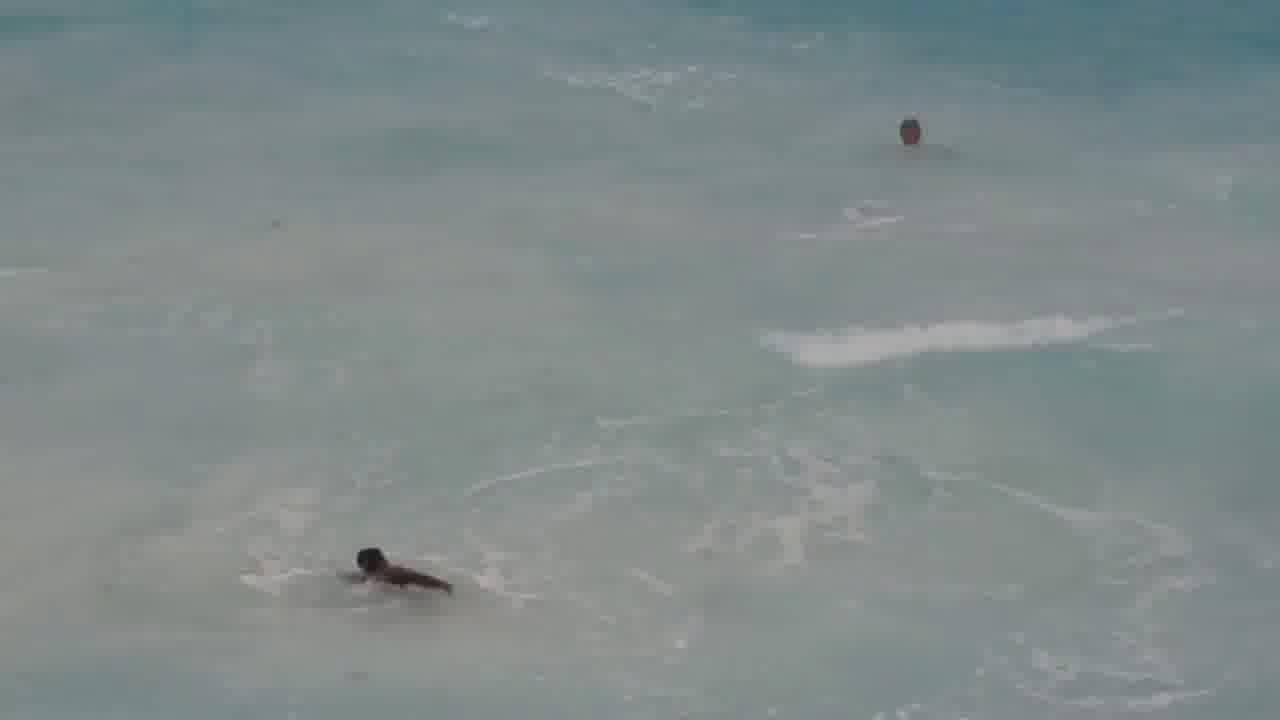swimmer: (341, 520, 411, 608), (888, 96, 939, 163)
